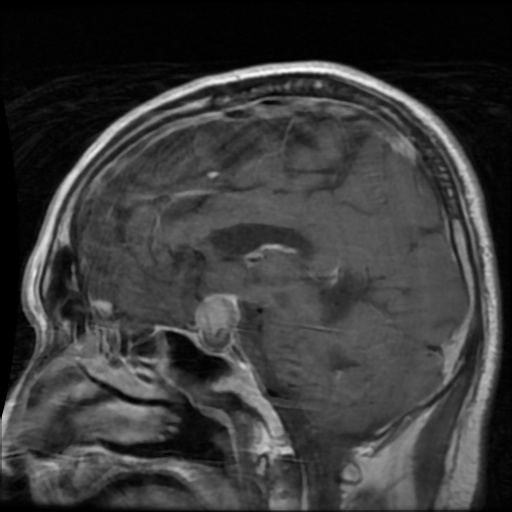pituitary: (196, 293, 236, 342)
